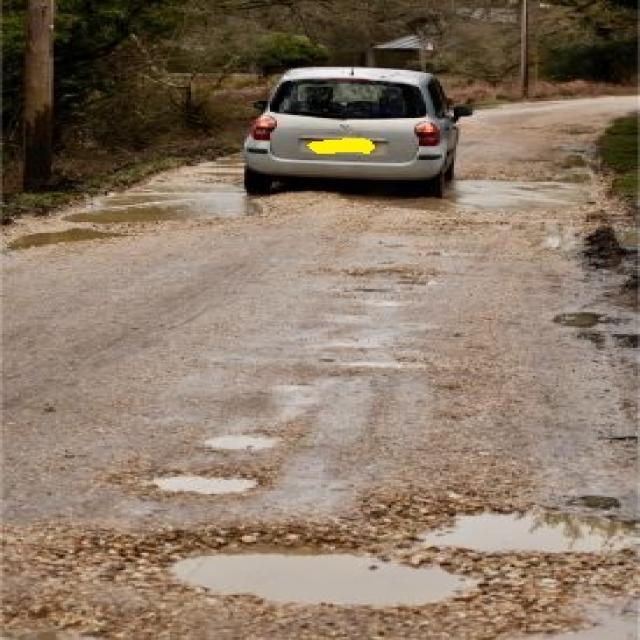pothole: (130, 519, 489, 612), (410, 500, 634, 558), (121, 468, 270, 498), (195, 424, 294, 452)
